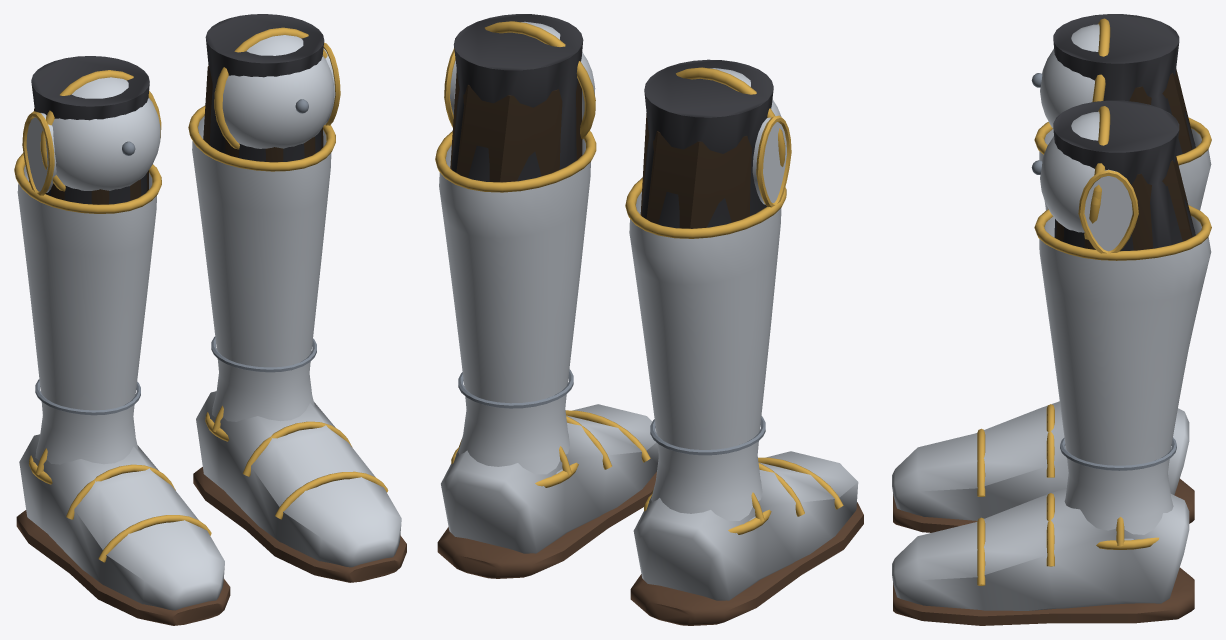
File: f_royalplate_f.glb
3 renders of one model, left to right at view 1: azimuth 30°, elevation 25°; view 2: azimuth 150°, elevation 25°; view 3: azimuth 270°, elevation 25°, orthographic. The views are drawn at different scales.
Parts seen in each view (by area): view 1: LegR_Boot, LegL_Boot, LegR_BootFoot, LegL_BootFoot, LegL_Shin, LegR_Shin; view 2: LegR_Boot, LegL_Boot, LegR_BootFoot, LegL_BootFoot, LegL_Shin, LegR_Shin; view 3: LegL_Boot, LegL_BootFoot, LegR_BootFoot, LegR_Boot, LegL_Shin, LegR_Shin.
Boxes of the visible parts, box(x1,y1,x2,y2) form: LegR_Boot: box(14, 56, 161, 484); LegL_Boot: box(188, 14, 340, 441); LegR_BootFoot: box(16, 434, 230, 625); LegL_BootFoot: box(193, 391, 406, 582); LegL_Shin: box(203, 65, 323, 162); LegR_Shin: box(29, 108, 148, 204); LegR_Boot: box(625, 59, 791, 534); LegL_Boot: box(435, 14, 596, 487); LegR_BootFoot: box(630, 451, 863, 625); LegL_BootFoot: box(437, 404, 658, 578); LegL_Shin: box(450, 69, 582, 182); LegR_Shin: box(640, 113, 766, 228); LegL_Boot: box(1031, 100, 1211, 549); LegL_BootFoot: box(892, 487, 1194, 625); LegR_BootFoot: box(892, 401, 1194, 532); LegR_Boot: box(1031, 14, 1211, 210); LegL_Shin: box(1056, 156, 1195, 250); LegR_Shin: box(1129, 69, 1195, 153).
Size of the model in its own units: 0.3589 by 0.554 by 0.3261.
